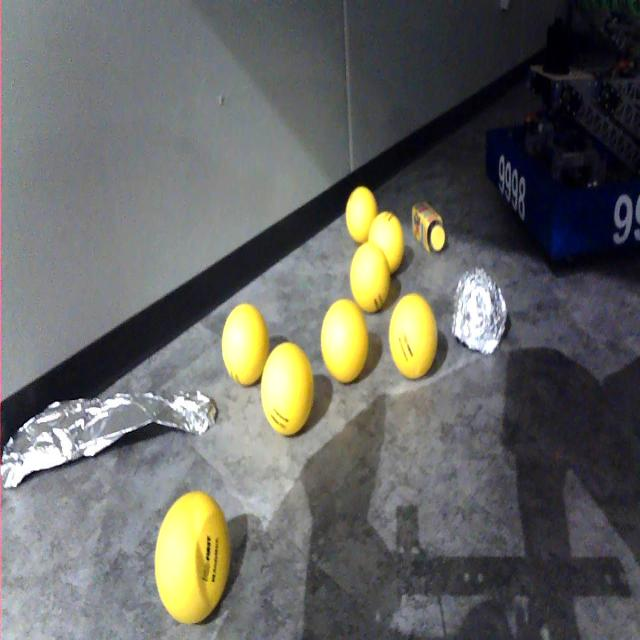Bumper: (476, 107, 640, 276)
fuel: (149, 484, 238, 635), (255, 332, 321, 446), (384, 286, 449, 390), (320, 290, 371, 390), (218, 298, 271, 392), (344, 233, 396, 316), (366, 208, 410, 276), (342, 180, 379, 248)
